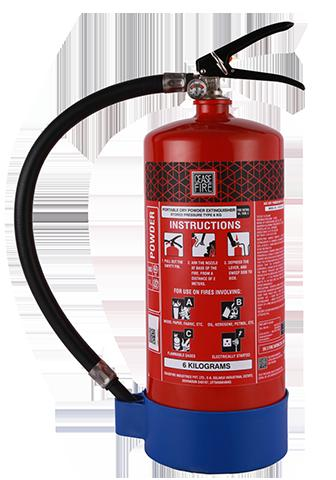Fire Extinguisher: (13, 17, 321, 478)
